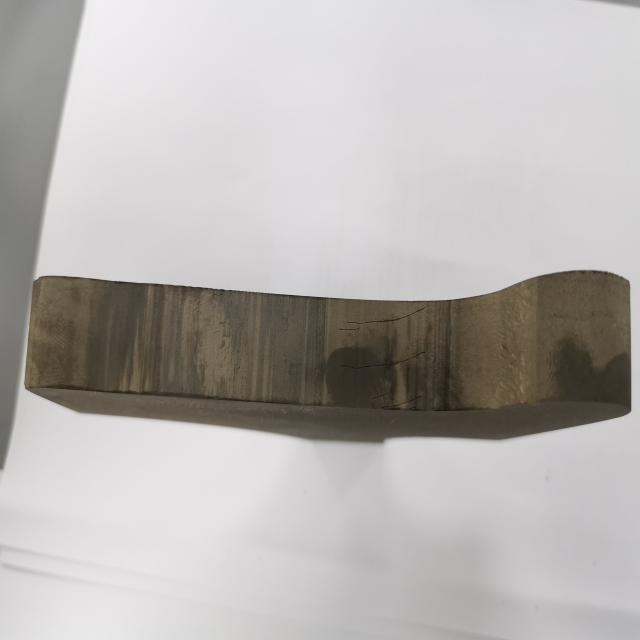Brake_Thermal_Cracks: (336, 303, 432, 343), (338, 353, 427, 376), (382, 397, 421, 409), (371, 392, 391, 401)
